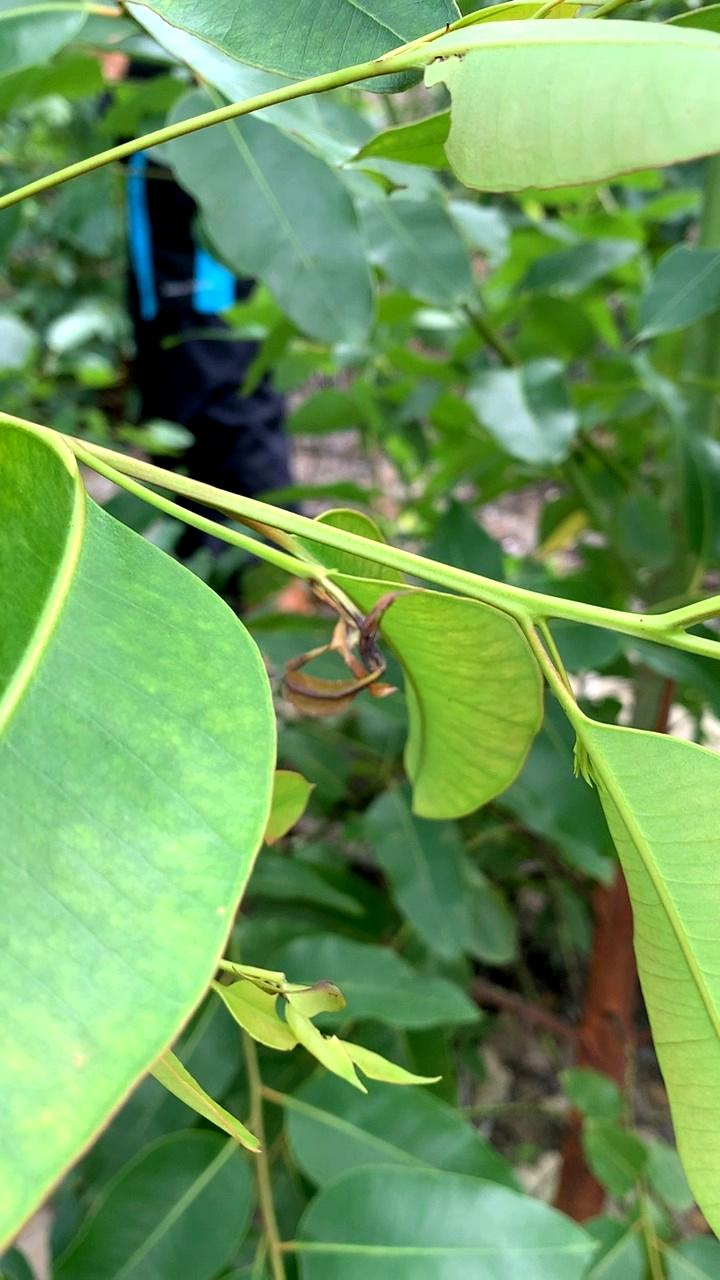Helopeltis-Withered Sprout: (270, 596, 415, 729)
